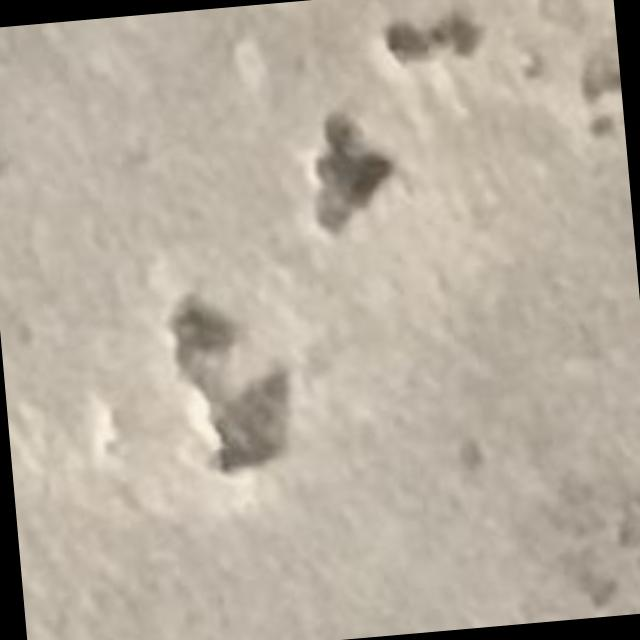peeling plaster: (172, 304, 290, 473)
